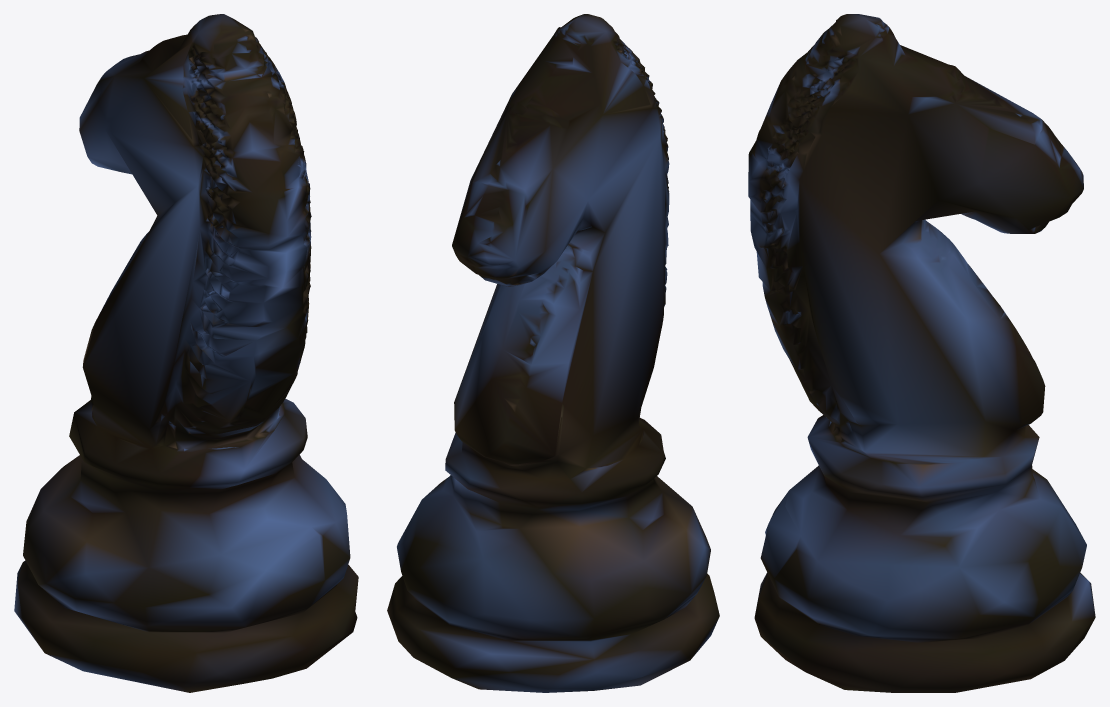
Rendered from knight-black.glb.
3 renders of one model, left to right at view 1: azimuth 30°, elevation 25°; view 2: azimuth 150°, elevation 25°; view 3: azimuth 270°, elevation 25°, orthographic. The views are drawn at different scales.
Visible parts, largest first — view 1: Cobalt Vein white knight; view 2: Cobalt Vein white knight; view 3: Cobalt Vein white knight.
Boxes of the visible parts, <box> form: Cobalt Vein white knight: <box>14,14,358,692</box>; Cobalt Vein white knight: <box>387,14,719,692</box>; Cobalt Vein white knight: <box>748,14,1095,692</box>.
Size of the model in its own units: 0.5945 by 1.18 by 0.5965.
